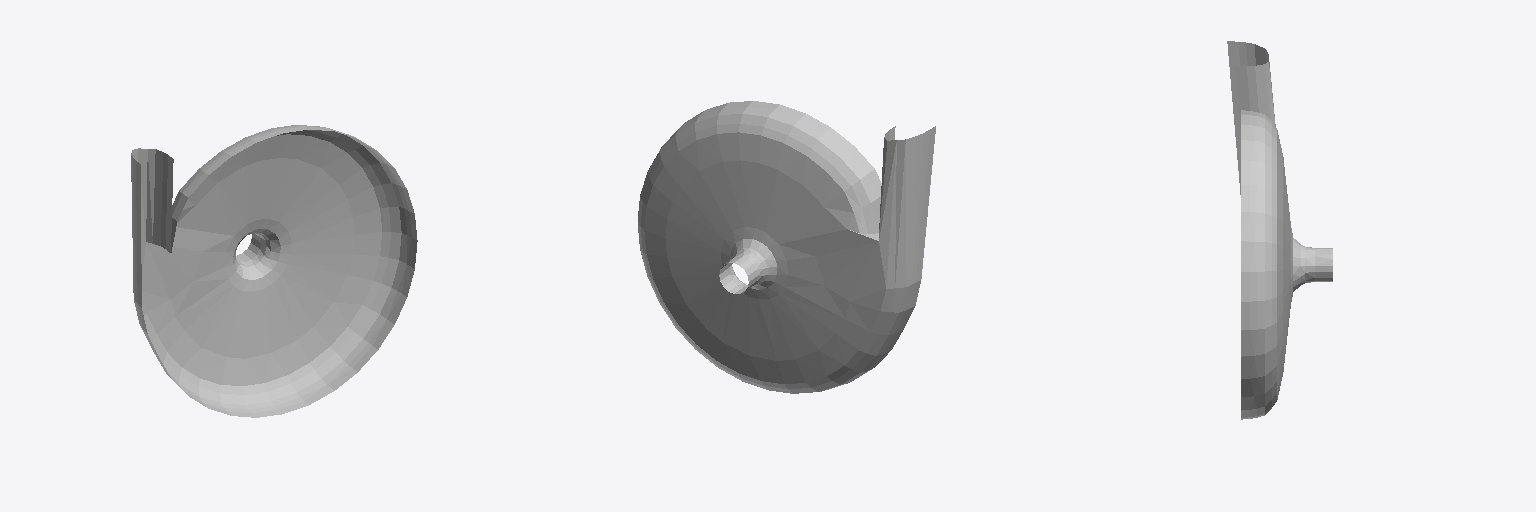
Rendered from spiral_smooth_bis.obj.
3 renders of one model, left to right at view 1: azimuth 30°, elevation 25°; view 2: azimuth 150°, elevation 25°; view 3: azimuth 270°, elevation 25°, orthographic.
Visible parts, largest first — view 1: spiral_final.001_Circle.005; view 2: spiral_final.001_Circle.005; view 3: spiral_final.001_Circle.005.
Part boxes in pixels (left/top/right/bottom): spiral_final.001_Circle.005: left=131, top=125, right=417, bottom=417; spiral_final.001_Circle.005: left=638, top=101, right=935, bottom=393; spiral_final.001_Circle.005: left=1227, top=41, right=1332, bottom=419.
Bounding box in the file's own units: 2.11 × 2.07 × 0.6811.